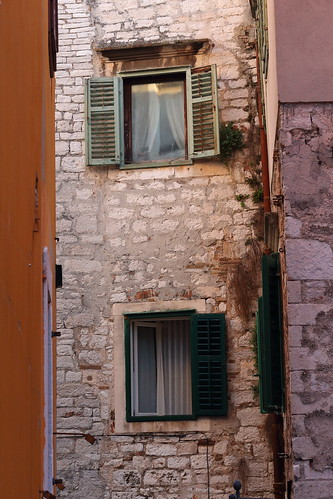building: (1, 1, 333, 492)
window: (124, 70, 189, 166), (131, 320, 192, 416)
